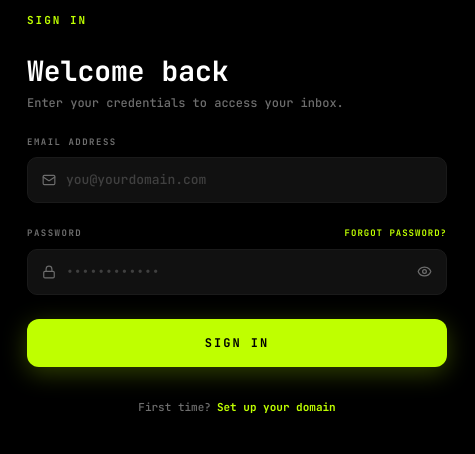
Scenario: LoginPage › flags short password
This screenshot has width=475, height=454.
In the field with placeholder "you@yourdomain.com": [249, 180] box [66,170,432,190], type "user@example.com"
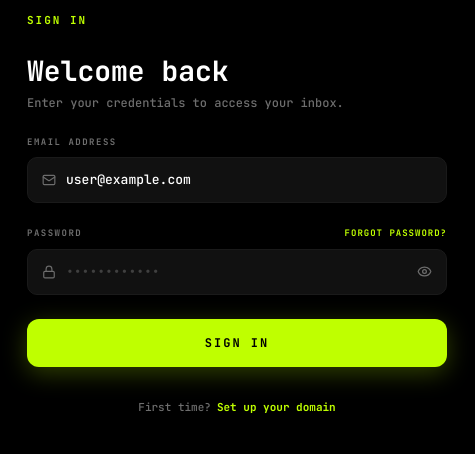
In the password field with placeholder "••••••••••••": [236, 272] box [66,262,407,281], type "short"
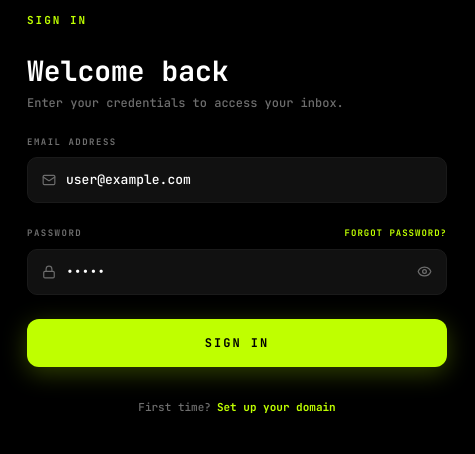
Submit the form with placeholder "you@yourdomain.com"
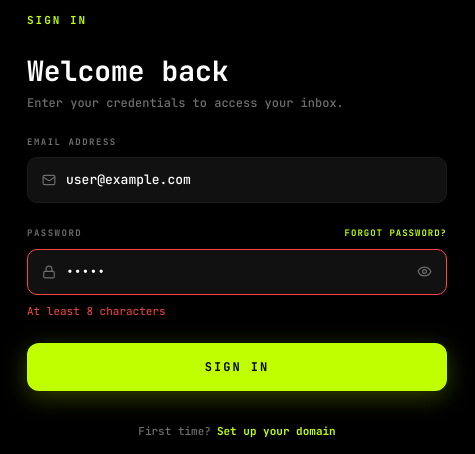
Expected: the text "At least 8 characters" is shown, [27,304,166,318]
